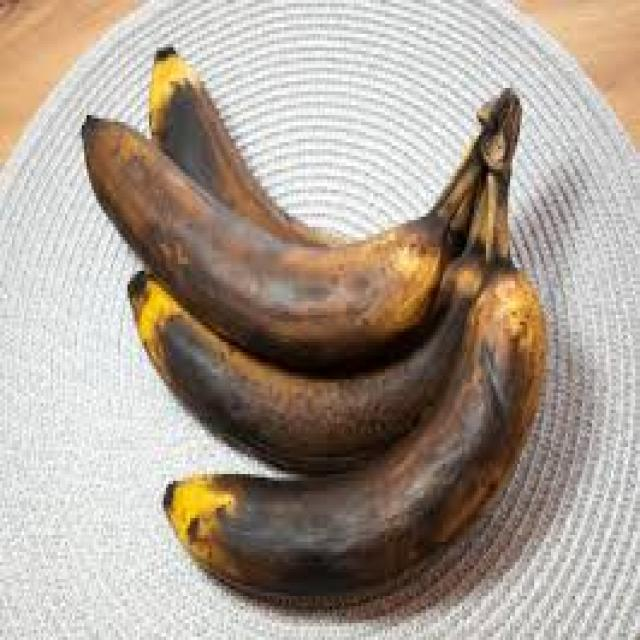Banana: (149, 220, 392, 343), (233, 473, 456, 588), (195, 379, 410, 456)
